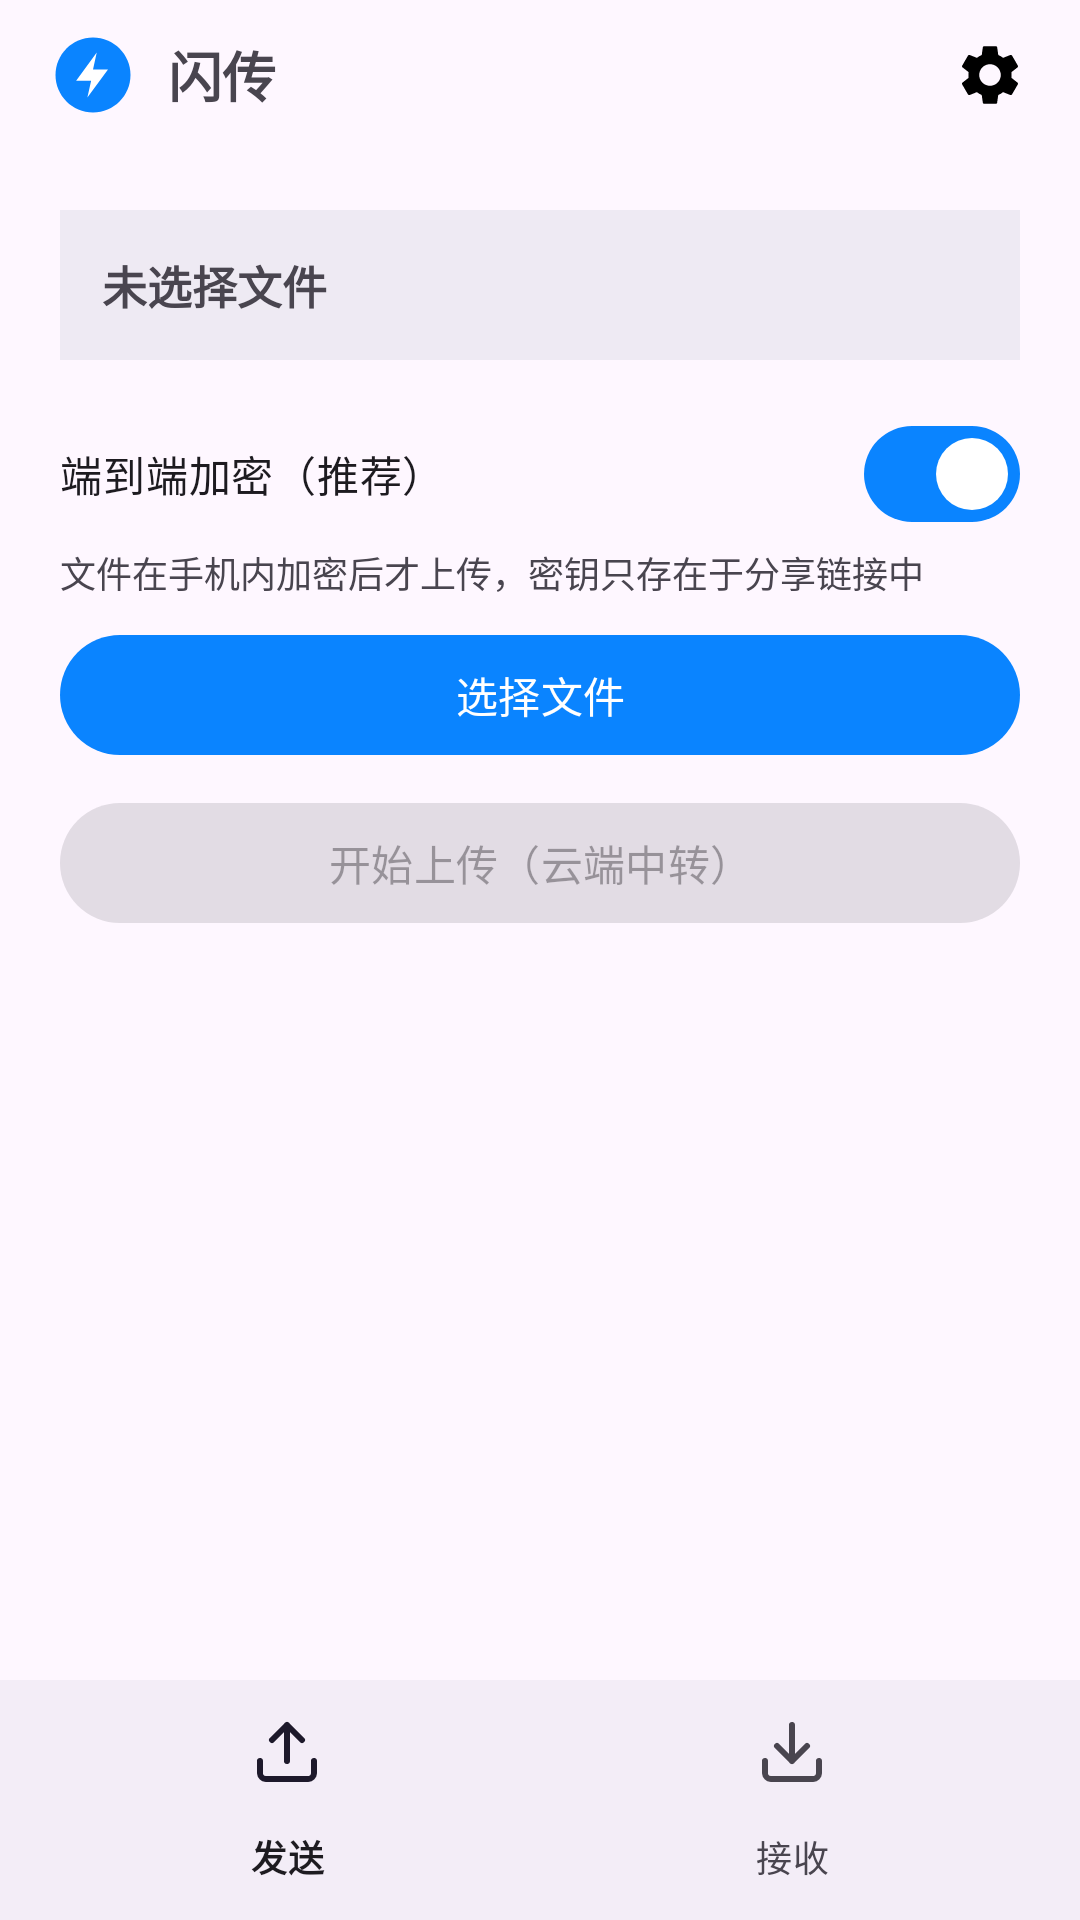

Icons on this 1080px x 1920px Android screen, each with its box as (x1, y1, x2, y2):
设置: (962, 46, 1018, 104)
